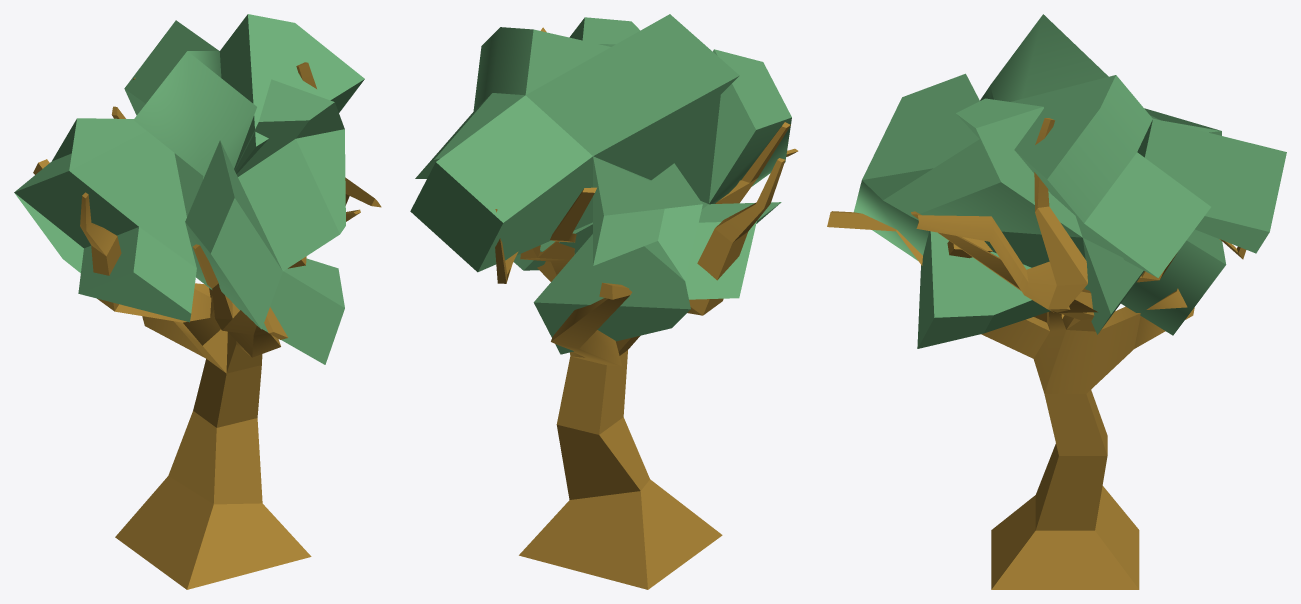
The model's file is cartoontreeFBX.fbx.
The picture shows the model from 3 angles, left to right: view 1: azimuth 30°, elevation 25°; view 2: azimuth 150°, elevation 25°; view 3: azimuth 270°, elevation 25°; orthographic projection. The views are drawn at different scales.
Visible parts, largest first — view 1: leaves, body; view 2: leaves, body; view 3: leaves, body.
Part boxes in pixels (box(x1,y1,x2,y2)): leaves: box(14, 14, 364, 364); body: box(33, 62, 381, 589); leaves: box(410, 14, 791, 354); body: box(495, 27, 798, 589); leaves: box(854, 14, 1286, 348); body: box(827, 118, 1246, 589).
Size of the model in its own units: 17.97 by 29.8 by 23.48.
